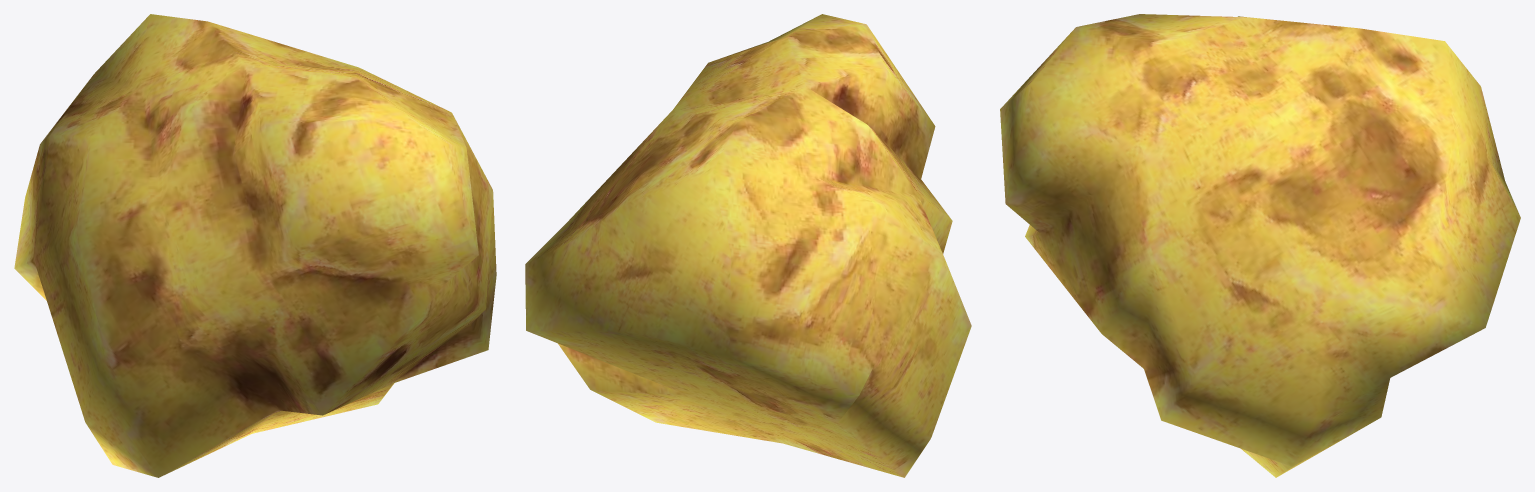
The model's file is donkey-resourcegold-slice-base.glb.
3 renders of one model, left to right at view 1: azimuth 30°, elevation 25°; view 2: azimuth 150°, elevation 25°; view 3: azimuth 270°, elevation 25°, orthographic. The views are drawn at different scales.
Size of the model in its own units: 0.5015 by 0.4858 by 0.5844.
Materials: 1 (1 with a texture image).
